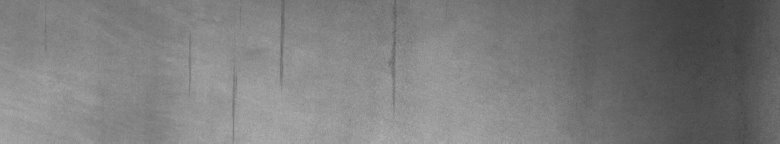ka: (189, 4, 287, 120)
